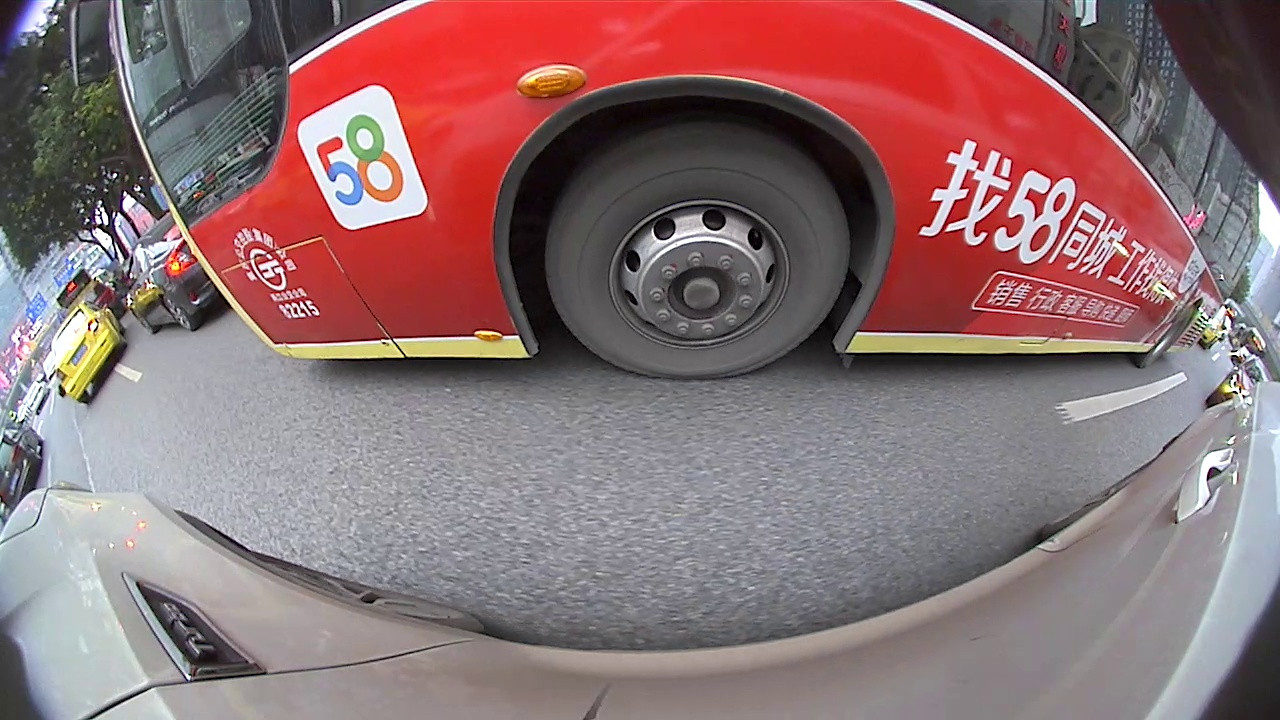bus: (272, 35, 460, 116)
car: (664, 77, 912, 186), (199, 85, 345, 200), (949, 147, 1046, 229), (617, 63, 730, 105), (21, 268, 73, 329)
front: (714, 114, 750, 151)
rear: (857, 147, 887, 180)
